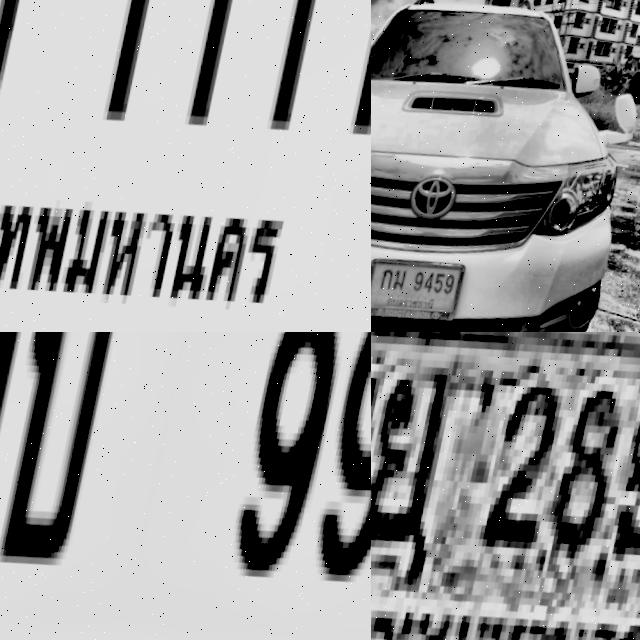license-plate: (0, 0, 371, 332), (0, 332, 371, 640), (371, 332, 640, 640), (371, 253, 477, 332)
